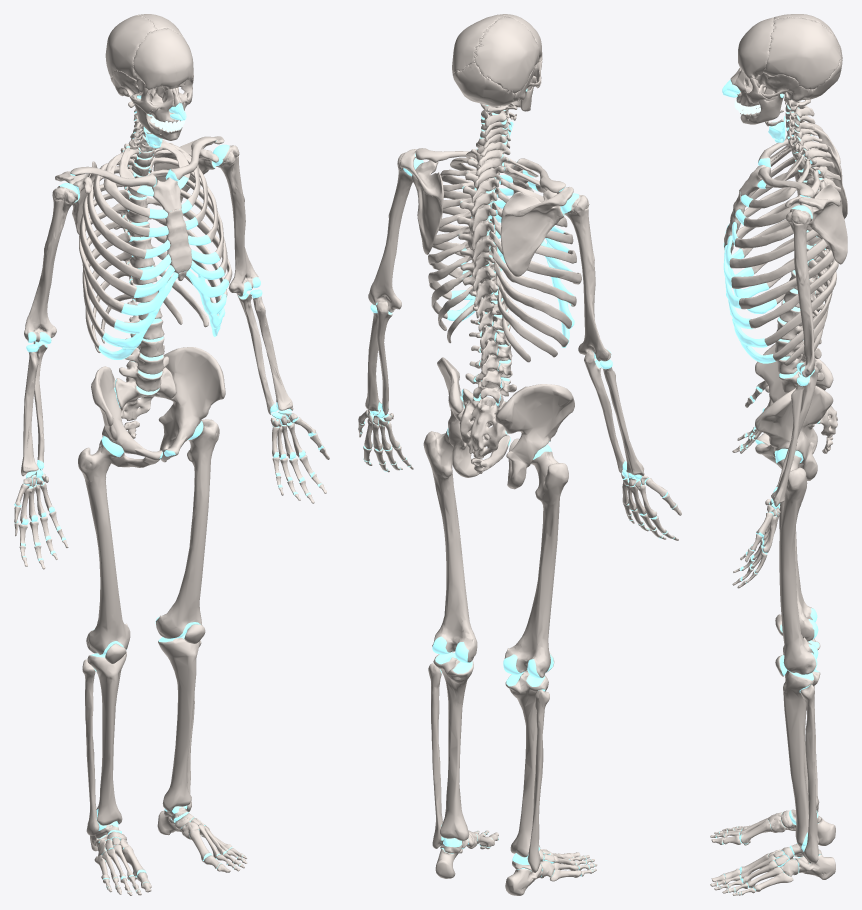
Rendered from Skeleton1.glb.
3 renders of one model, left to right at view 1: azimuth 30°, elevation 25°; view 2: azimuth 150°, elevation 25°; view 3: azimuth 270°, elevation 25°, orthographic. The views are drawn at different scales.
Visible parts, largest first — view 1: Femur.r, Femur.l, Hip bone.l, Tibia.l, Frontal bone, Tibia.r, Humerus.r, Humerus.l, Hip bone.r, Parietal bone.r, Sacrum, Fibula.r (+18 smaller); view 2: Femur.r, Femur.l, Hip bone.r, Scapula.r, Parietal bone.r, Tibia.l, Tibia.r, Humerus.r, Humerus.l, Hip bone.l, Scapula.l, Sacrum (+15 smaller); view 3: Femur.l, Parietal bone.l, Tibia.l, Hip bone.l, Humerus.l, Scapula.l, Fibula.l, Frontal bone, Hip bone.r, Radius.l, Femur.r, Seventh rib.l (+28 smaller).
Part boxes in pixels (x1,y1,x2,y2): Femur.r: (78,436,130,655); Femur.l: (155,419,219,639); Hip bone.l: (158,347,225,462); Tibia.l: (158,633,200,811); Frontal bone: (133,28,193,91); Tibia.r: (87,652,126,825); Humerus.r: (24,183,78,344); Humerus.l: (212,144,260,296); Hip bone.r: (91,366,162,467); Parietal bone.r: (105,14,157,79); Sacrum: (115,367,175,420); Fibula.r: (82,659,99,835); Femur.r: (503,444,568,678); Femur.l: (423,428,477,662); Hip bone.r: (495,384,574,489); Scapula.r: (500,187,573,276); Parietal bone.r: (474,16,539,93); Tibia.l: (433,652,473,840); Tibia.r: (505,671,548,857); Humerus.r: (561,193,611,361); Humerus.l: (368,152,423,312); Hip bone.l: (437,357,510,477); Scapula.l: (400,149,443,254); Sacrum: (459,388,507,458); Femur.l: (775,448,818,674); Parietal bone.l: (763,17,840,89); Tibia.l: (783,669,820,846); Hip bone.l: (755,386,833,480); Humerus.l: (786,205,815,377); Scapula.l: (785,183,847,264); Fibula.l: (800,684,818,863); Frontal bone: (738,17,774,78); Hip bone.r: (755,343,833,453); Radius.l: (771,377,808,506); Femur.r: (779,470,818,641); Seventh rib.l: (739,249,834,309).
Bounding box in the file's own units: 0.6692 × 1.7 × 0.2501.
3 materials, 1 textured.
